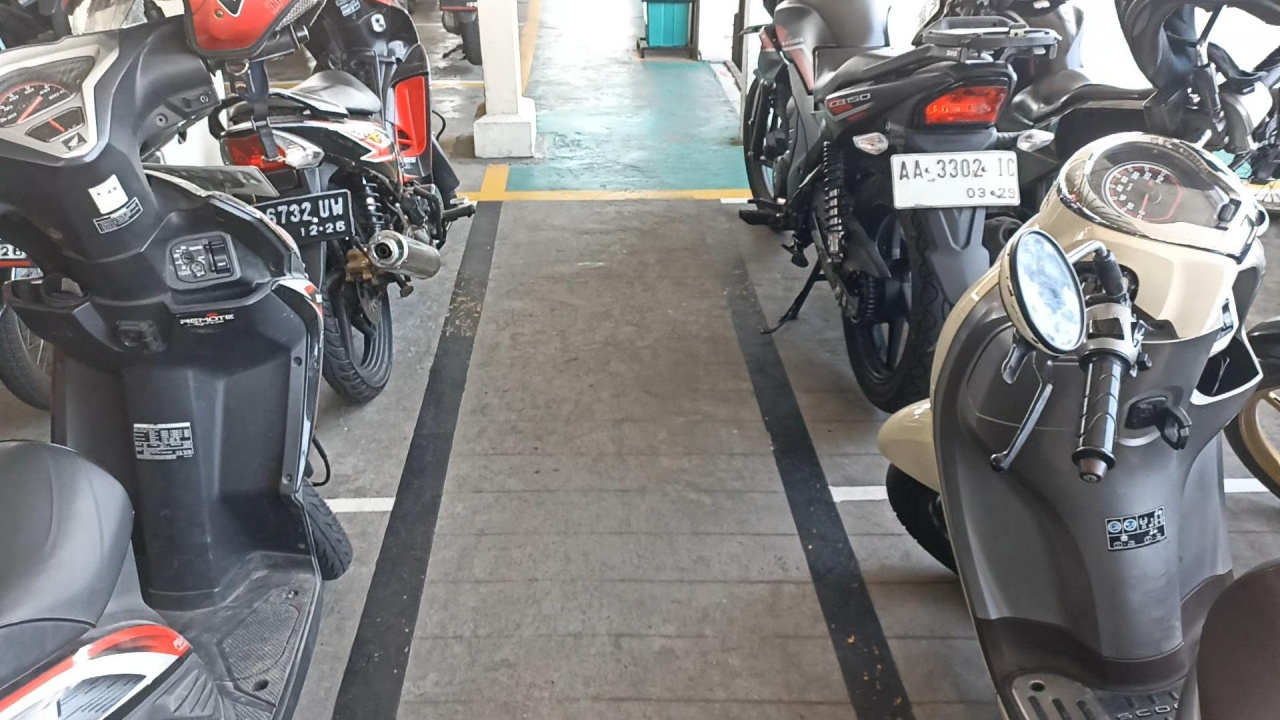plate: (892, 152, 1021, 211)
